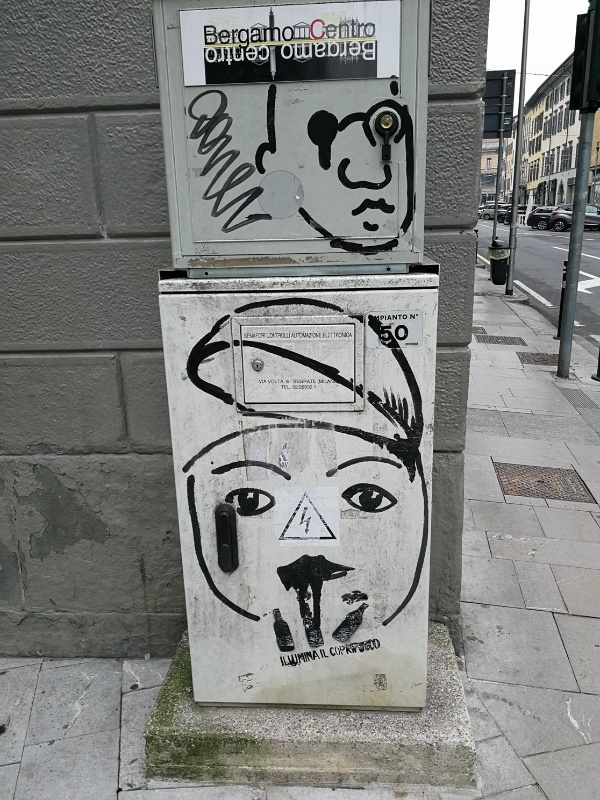text: (209, 23, 224, 53), (225, 23, 240, 53), (241, 23, 256, 53), (257, 23, 272, 53), (273, 23, 288, 53), (209, 43, 224, 67), (225, 43, 240, 67), (241, 43, 256, 67), (289, 39, 304, 62), (305, 39, 320, 62), (321, 39, 336, 62), (337, 39, 352, 62), (353, 39, 368, 62), (321, 20, 336, 41), (337, 20, 352, 41), (353, 20, 368, 41), (257, 43, 270, 67), (289, 648, 304, 668), (305, 648, 320, 668), (337, 638, 352, 657), (353, 638, 368, 657), (385, 325, 400, 342), (369, 638, 382, 657), (310, 20, 320, 41), (289, 23, 295, 53), (321, 648, 330, 668), (281, 39, 288, 62), (369, 39, 376, 62), (280, 648, 288, 668), (369, 20, 376, 41), (401, 325, 409, 342), (385, 314, 400, 323), (329, 638, 336, 657), (337, 332, 353, 340), (204, 23, 208, 53), (323, 332, 336, 340), (374, 314, 384, 323), (273, 333, 288, 339), (305, 333, 320, 339), (244, 333, 256, 340), (205, 43, 208, 67), (293, 333, 304, 339), (305, 379, 316, 385), (321, 380, 334, 385), (257, 333, 266, 340), (273, 380, 285, 385), (294, 379, 304, 385), (292, 385, 304, 390), (305, 385, 317, 390), (401, 314, 407, 323), (259, 380, 272, 384), (381, 325, 384, 342), (410, 314, 416, 321), (267, 333, 272, 339), (282, 385, 288, 390), (268, 380, 272, 385), (289, 385, 292, 390), (417, 314, 419, 321), (289, 333, 291, 339), (286, 379, 288, 384), (318, 380, 320, 385), (321, 333, 322, 339), (289, 379, 290, 384)
